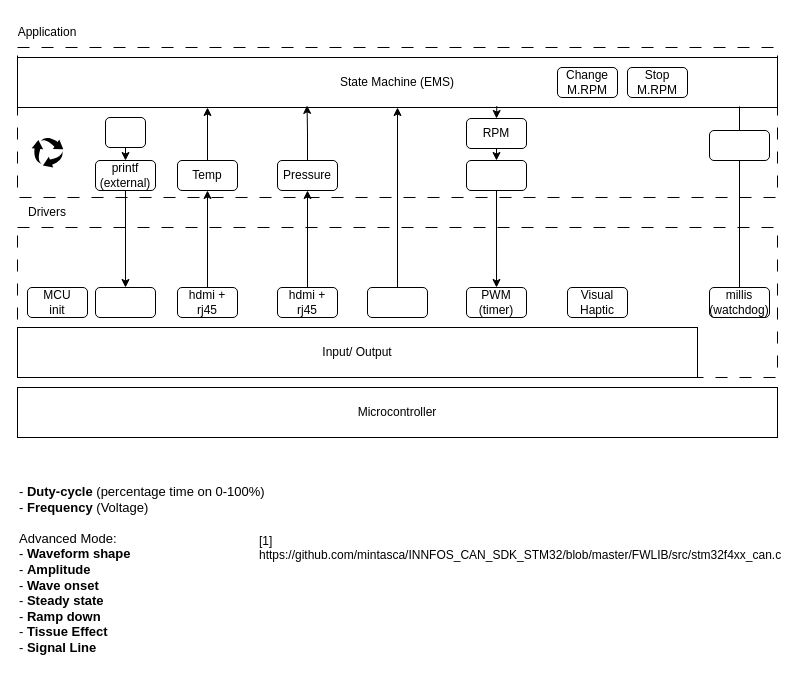
The diagram is 799 pixels wide and 694 high, and some of its shapes have lost their labels. Each missing label, with the centre of its shape:
"CAN [1]" belongs at (x=496, y=175).
"E.Stop Cable" belongs at (x=397, y=302).
"Timer" belongs at (x=739, y=145).
"trace" belongs at (x=125, y=132).
"UART" belongs at (x=125, y=302).
